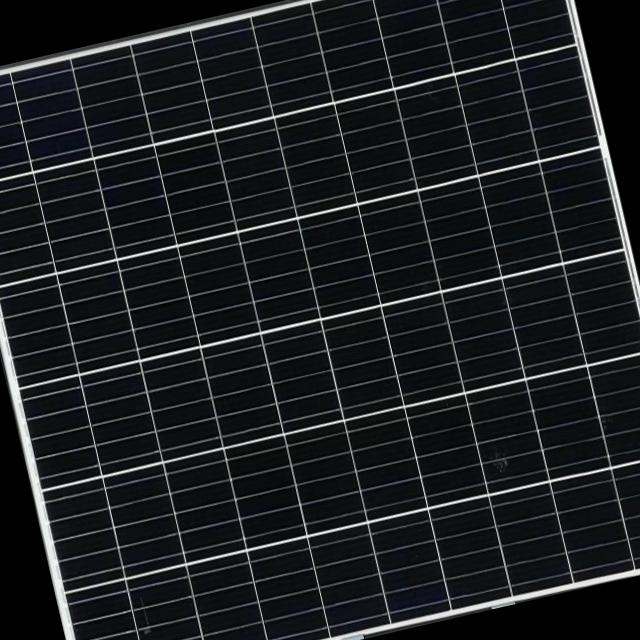faulty: (115, 590, 165, 640), (476, 436, 522, 489)
no faulty: (0, 0, 640, 537)
